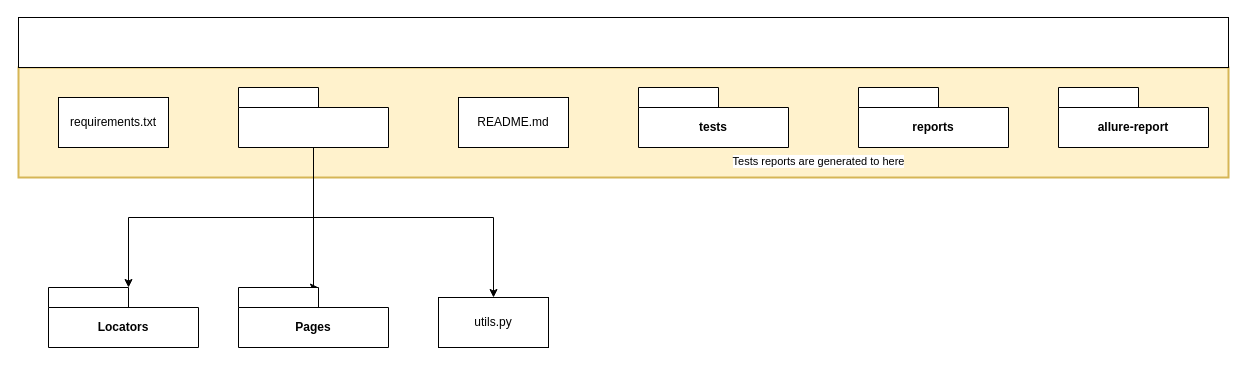
Image size: 1246x365. Some labels were removed from this diagram. The centre of each missing label's shape, as x and y in pixels:
src: point (313, 117)
Trado QA Project: point (623, 42)
